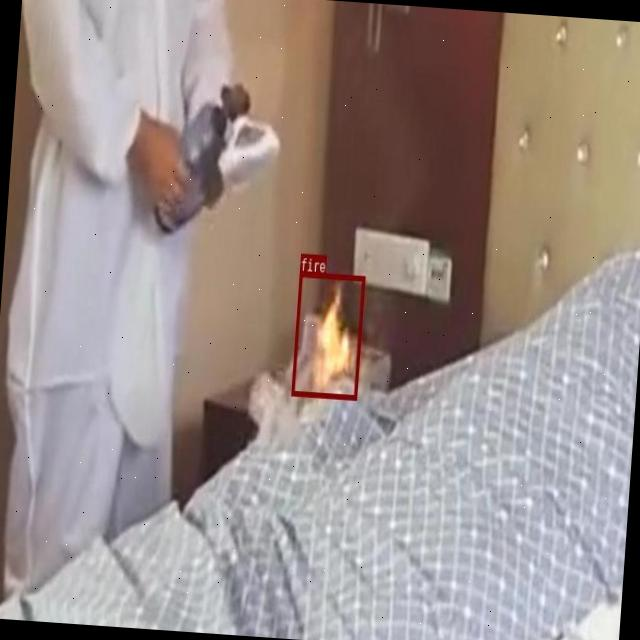fire: (291, 271, 364, 398)
